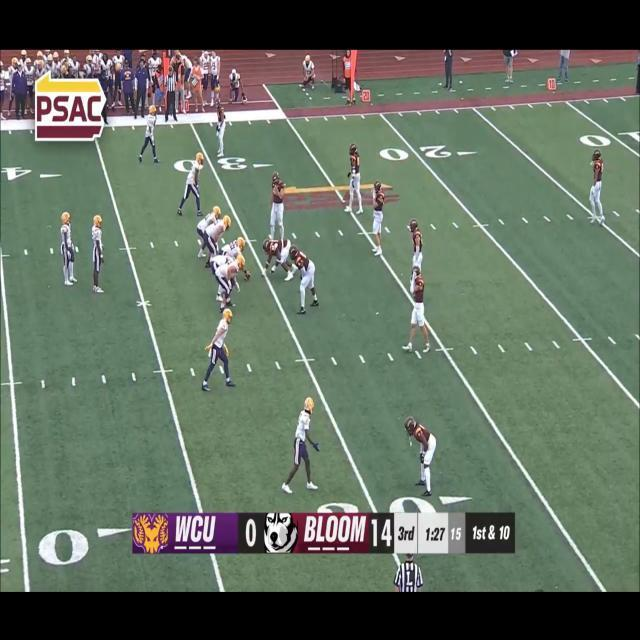football: (243, 270, 252, 284)
